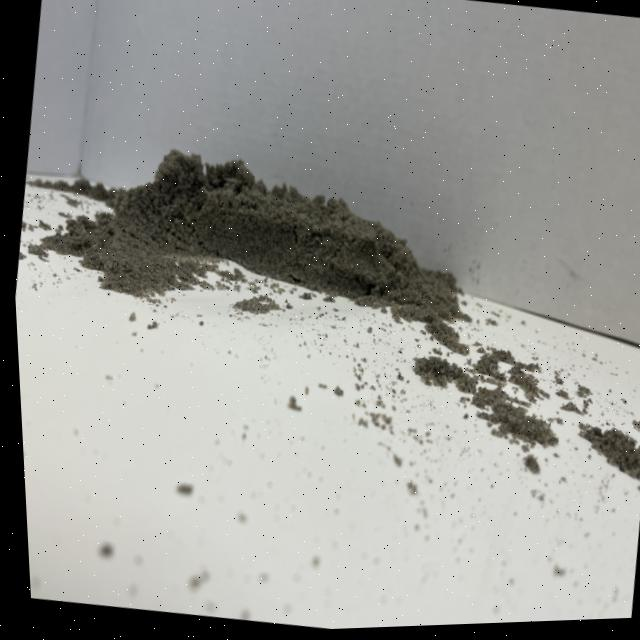sand: (35, 103, 506, 381)
